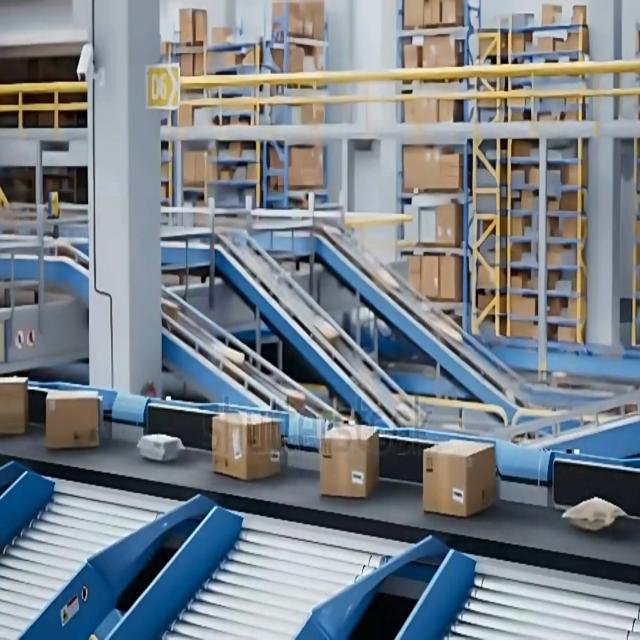product 1: (211, 411, 282, 481), (319, 422, 380, 498), (422, 438, 479, 518), (80, 390, 101, 453)
product 2: (137, 432, 184, 462)
